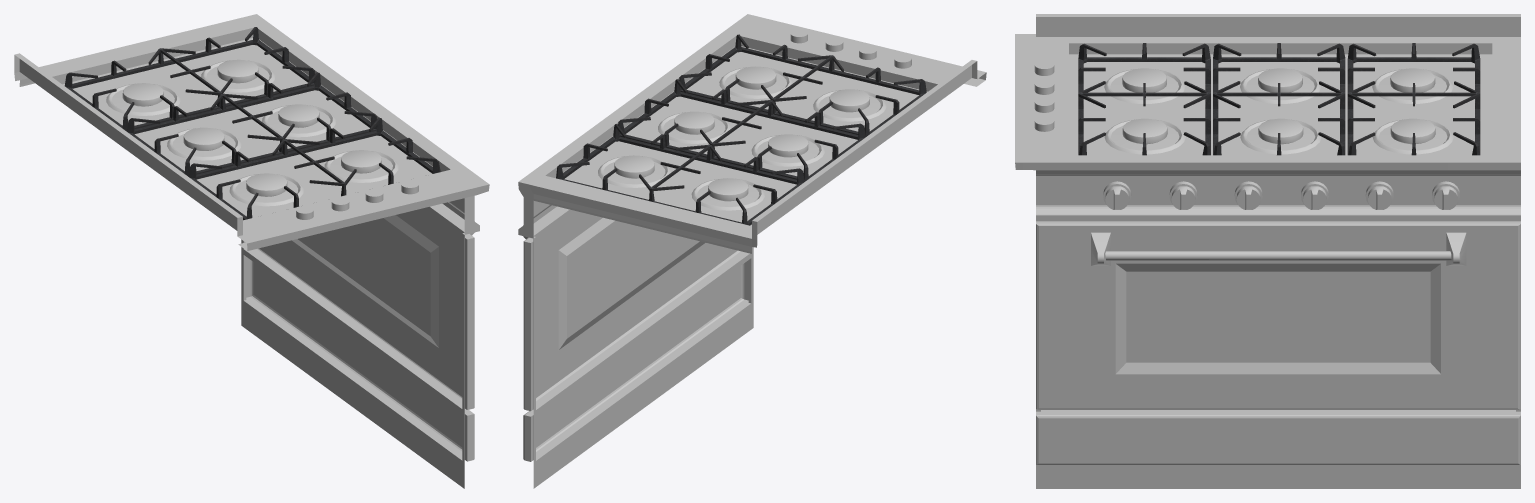
Rendered from GasRange_model_001_Anna.fbx.
3 views of the same model, side by side, from view 1: azimuth 30°, elevation 25°; view 2: azimuth 150°, elevation 25°; view 3: azimuth 270°, elevation 25° (orthographic). The views are drawn at different scales.
Parts seen in each view (by area): view 1: Cube, Cube.011, Cube.001, Cube.010, Cylinder.005, Cylinder.003, Cylinder.007, Cylinder.006, Cylinder.002, Cylinder.004; view 2: Cube, Cube.001, Cube.010, Cube.011, Cylinder.007, Cylinder.003, Cylinder.005, Cylinder.006, Cylinder.002, Cylinder.004; view 3: Cube, Cube.011, Cube.001, Cube.010, Cylinder.001, Cylinder.002, Cylinder.004, Cylinder.006, Cylinder.003, Cylinder.005, Cylinder.007, Cube.005 (+7 smaller).
Part boxes in pixels (<box>): Cube: <box>14,14,489,488</box>; Cube.011: <box>64,27,315,131</box>; Cube.001: <box>126,72,377,176</box>; Cube.010: <box>188,117,440,220</box>; Cylinder.005: <box>167,127,241,160</box>; Cylinder.003: <box>229,173,303,206</box>; Cylinder.007: <box>106,83,180,115</box>; Cylinder.006: <box>201,59,275,92</box>; Cylinder.002: <box>324,150,398,182</box>; Cylinder.004: <box>262,104,335,137</box>; Cube: <box>518,14,986,488</box>; Cube.001: <box>618,79,865,181</box>; Cube.010: <box>679,34,926,136</box>; Cube.011: <box>556,124,804,225</box>; Cylinder.007: <box>691,178,764,210</box>; Cylinder.003: <box>813,89,886,121</box>; Cylinder.005: <box>751,134,824,166</box>; Cylinder.006: <box>598,155,670,187</box>; Cylinder.002: <box>719,66,792,98</box>; Cylinder.004: <box>658,111,730,143</box>; Cube: <box>1015,14,1520,488</box>; Cube.011: <box>1347,43,1480,155</box>; Cube.001: <box>1213,43,1345,155</box>; Cube.010: <box>1078,43,1210,155</box>; Cylinder.001: <box>1105,251,1451,260</box>; Cylinder.002: <box>1104,118,1185,154</box>; Cylinder.004: <box>1240,118,1321,154</box>; Cylinder.006: <box>1372,118,1453,154</box>; Cylinder.003: <box>1104,68,1184,103</box>; Cylinder.005: <box>1240,68,1320,103</box>; Cylinder.007: <box>1372,68,1453,103</box>; Cube.005: <box>1446,232,1466,265</box>.
Bounding box in the file's own units: 1658 × 1933 × 2499.
